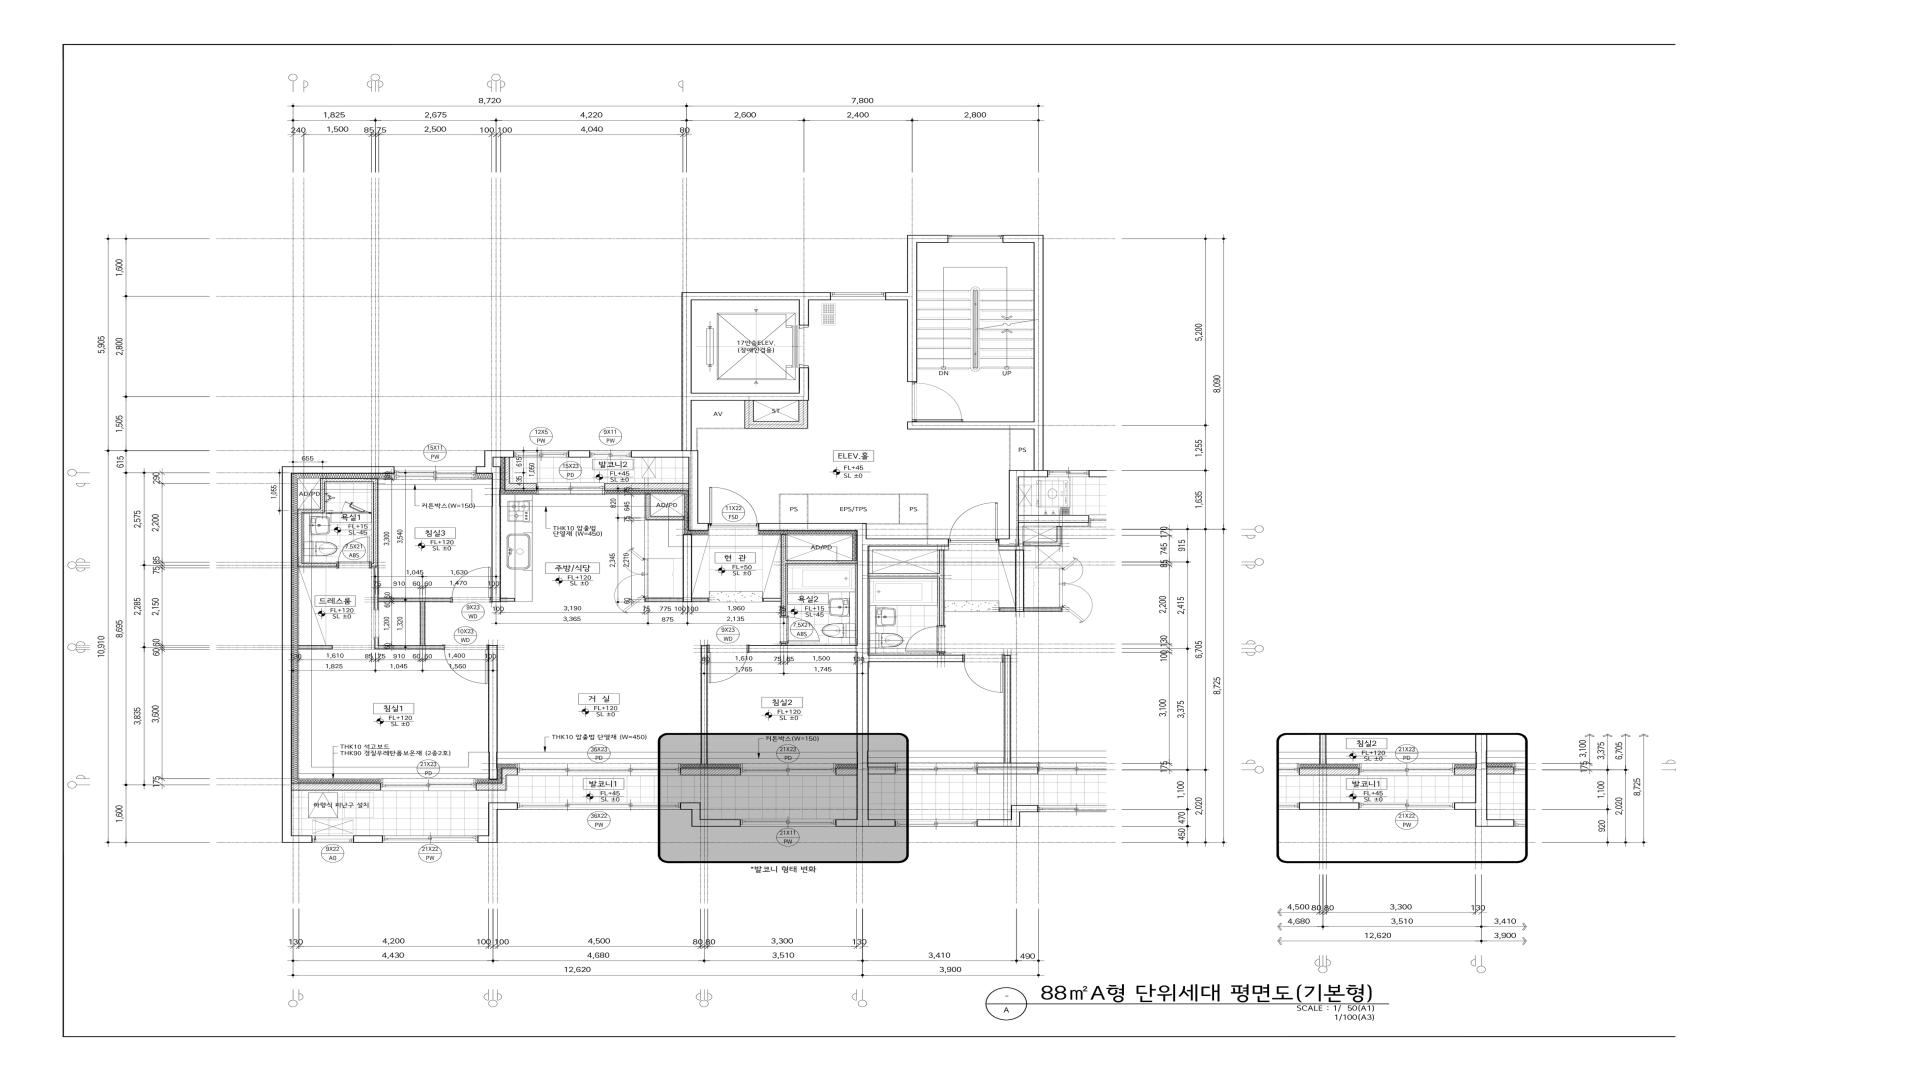door: (709, 487, 758, 526), (913, 382, 963, 421), (444, 647, 488, 684), (708, 649, 749, 683), (451, 566, 491, 600), (783, 616, 820, 642), (338, 537, 371, 566), (340, 501, 371, 514)
wall: (758, 524, 949, 827), (282, 467, 394, 843), (907, 235, 1044, 469), (682, 291, 831, 451), (886, 235, 948, 382), (630, 451, 709, 531), (476, 450, 514, 603), (998, 471, 1048, 547), (477, 803, 517, 843), (680, 802, 741, 827), (488, 645, 498, 779), (700, 645, 708, 764), (749, 645, 857, 653), (375, 638, 443, 650), (604, 483, 688, 491), (683, 534, 692, 603), (291, 783, 381, 790), (371, 481, 377, 567), (680, 767, 741, 775), (781, 534, 786, 616), (754, 421, 808, 429), (378, 597, 451, 603), (502, 767, 517, 790), (744, 401, 754, 429), (786, 560, 857, 564), (419, 603, 426, 645), (504, 483, 537, 491), (353, 835, 382, 843), (373, 568, 378, 611), (298, 509, 302, 563), (644, 597, 683, 603), (781, 493, 928, 495), (799, 401, 808, 421), (298, 645, 332, 650), (476, 783, 502, 790), (835, 767, 856, 775), (320, 481, 326, 513), (504, 458, 510, 483), (645, 516, 684, 520), (298, 563, 338, 567), (320, 479, 377, 481), (568, 451, 591, 458), (645, 493, 650, 516), (926, 495, 928, 538), (1009, 430, 1011, 471), (692, 597, 709, 603), (778, 493, 781, 524), (866, 524, 926, 525), (898, 495, 901, 524), (501, 597, 516, 603), (302, 509, 320, 513), (762, 597, 781, 601), (696, 427, 745, 429), (807, 495, 808, 524), (326, 512, 340, 514), (696, 429, 698, 451)
window: (517, 764, 680, 775), (381, 778, 476, 791), (741, 764, 836, 775), (517, 803, 680, 810), (394, 467, 476, 480), (537, 483, 604, 495), (740, 819, 836, 827), (382, 836, 477, 843), (948, 235, 1002, 243), (831, 293, 885, 301), (514, 451, 568, 458), (313, 835, 353, 843), (591, 451, 630, 458)
